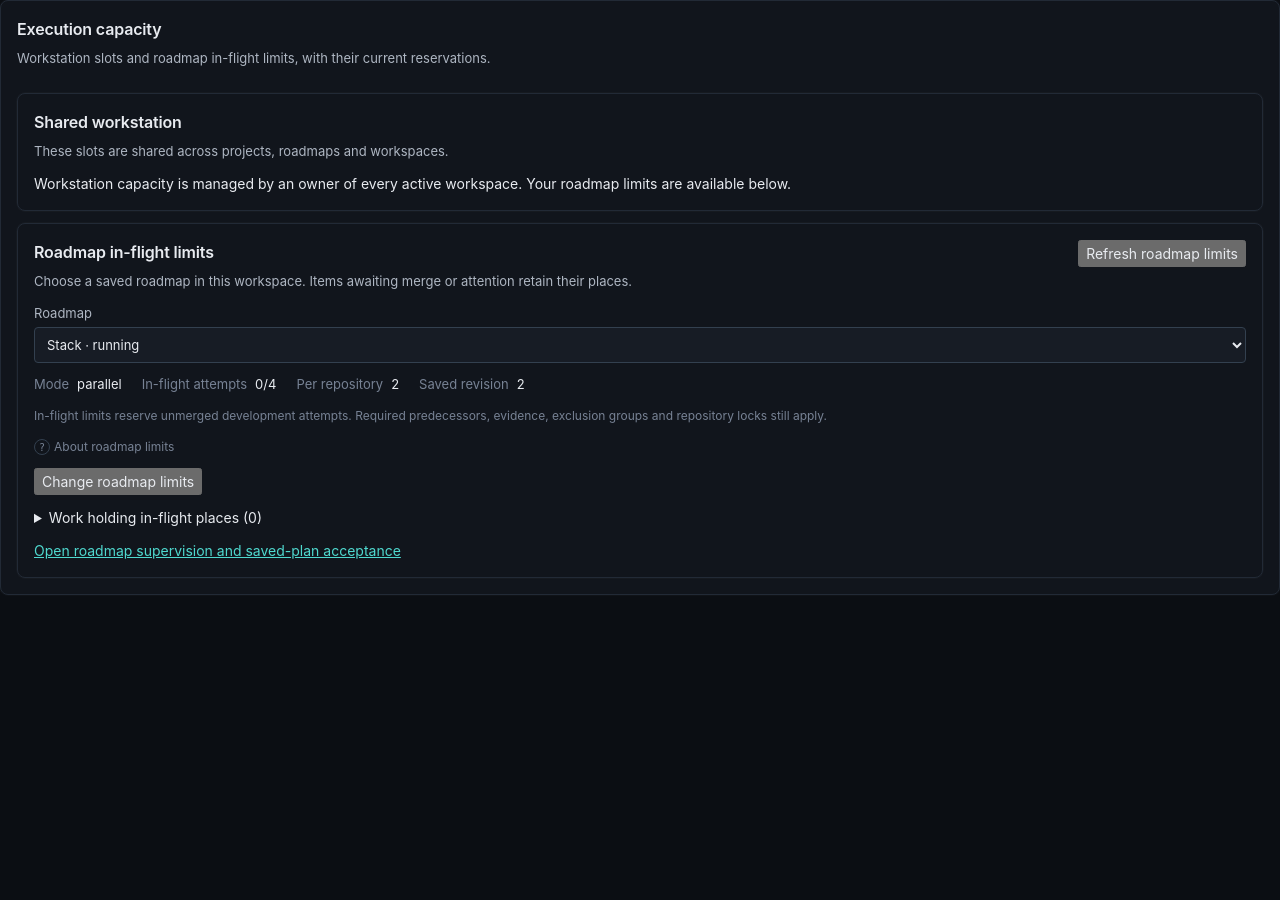
dates a running roadmap’s limits edit by its revision, not its version (R-B6, decision 10)
This screenshot has width=1280, height=900.
Click the button "Change roadmap limits": point(118, 482) [34, 468, 202, 495]
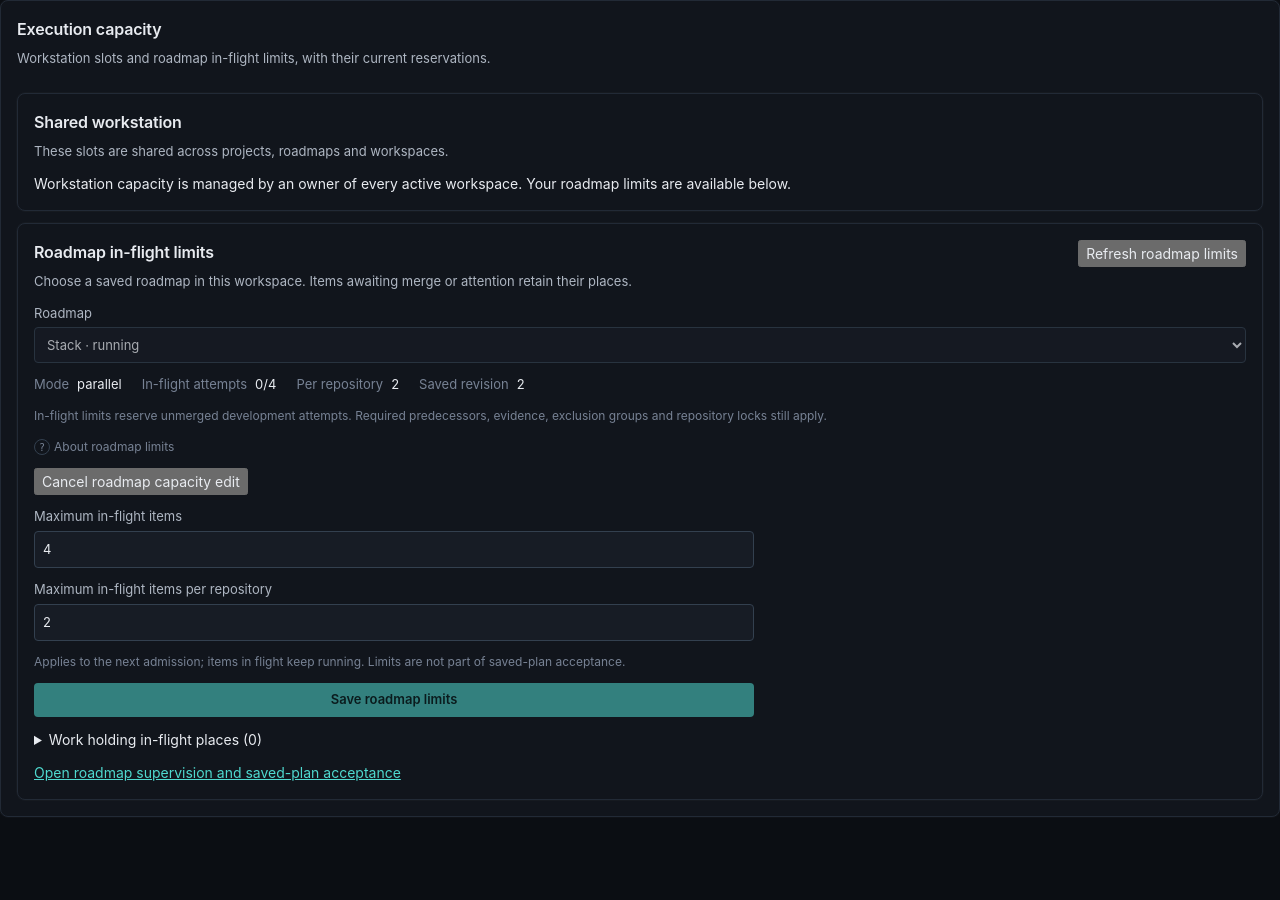
Replace the text in the number field labelled "Maximum in-flight items" with "3": point(394, 549) [34, 530, 754, 568]
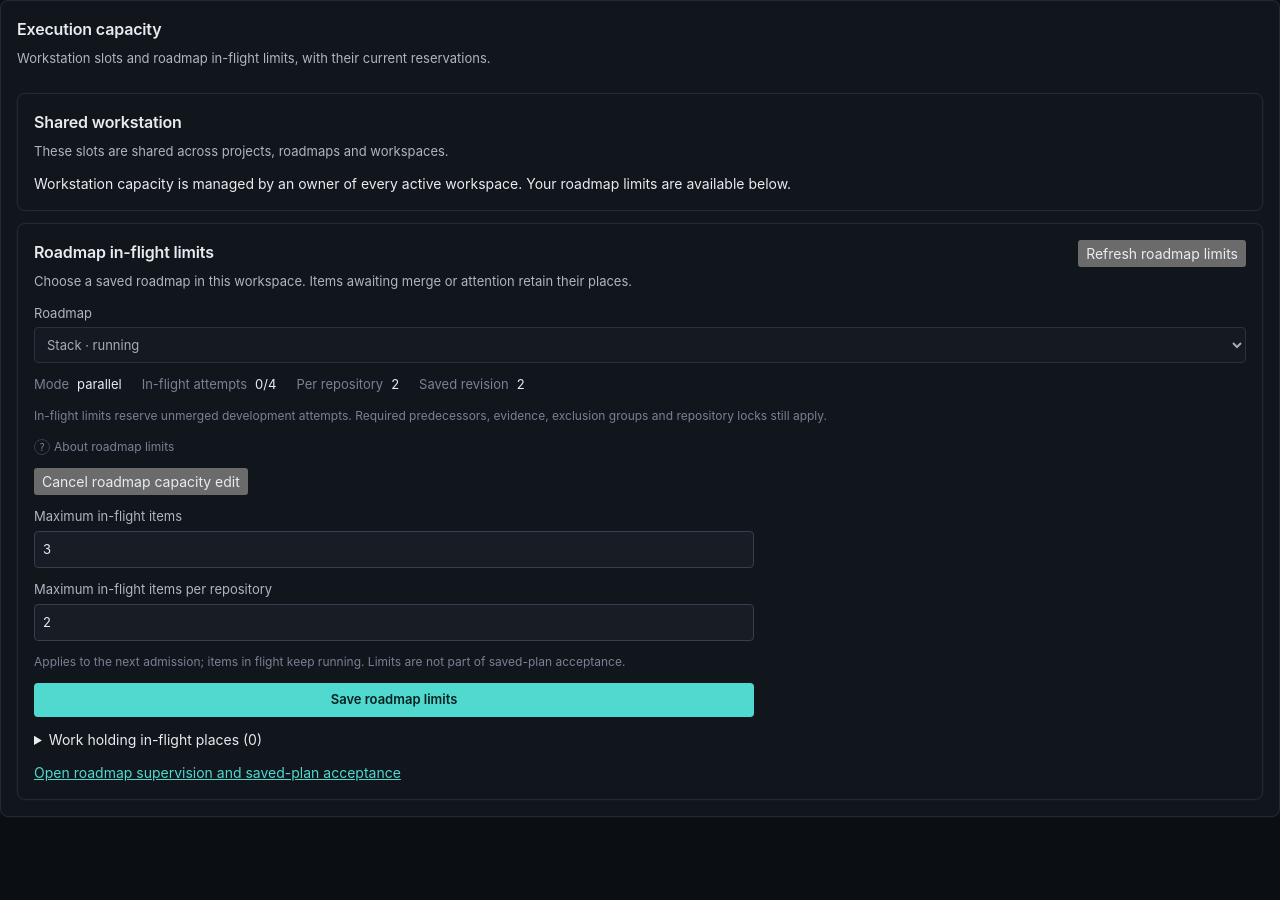
Click the button "Refresh roadmap limits": point(1162, 254) [1078, 240, 1246, 267]
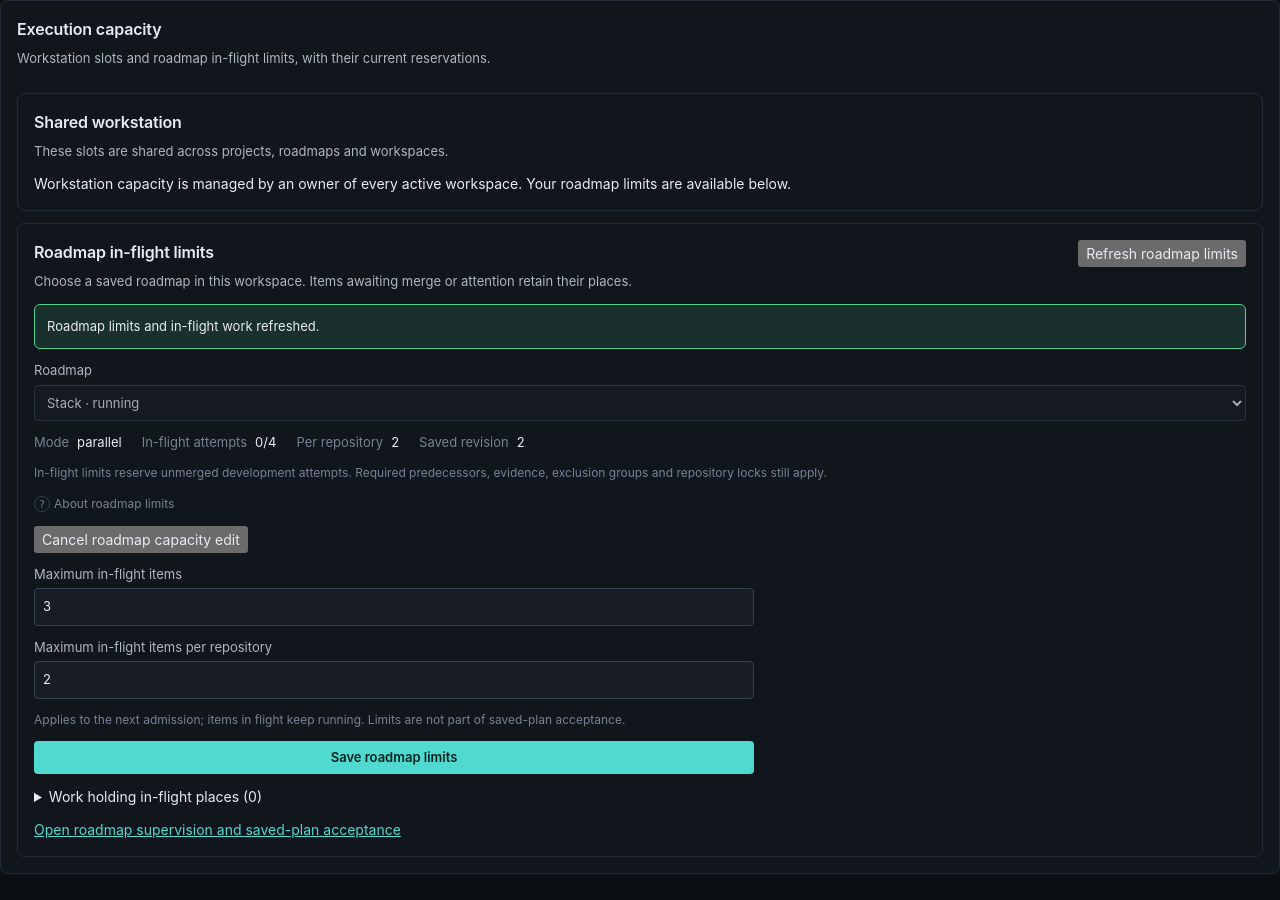
Expected: the text "The roadmap changed during this edit" is not shown
Expected: the button "Save roadmap limits" is enabled, [34, 740, 754, 774]
Expected: the text "Roadmap limits and in-flight work refreshed." is shown, [34, 304, 1246, 349]
Click the button "Refresh roadmap limits": point(1162, 254) [1078, 240, 1246, 267]
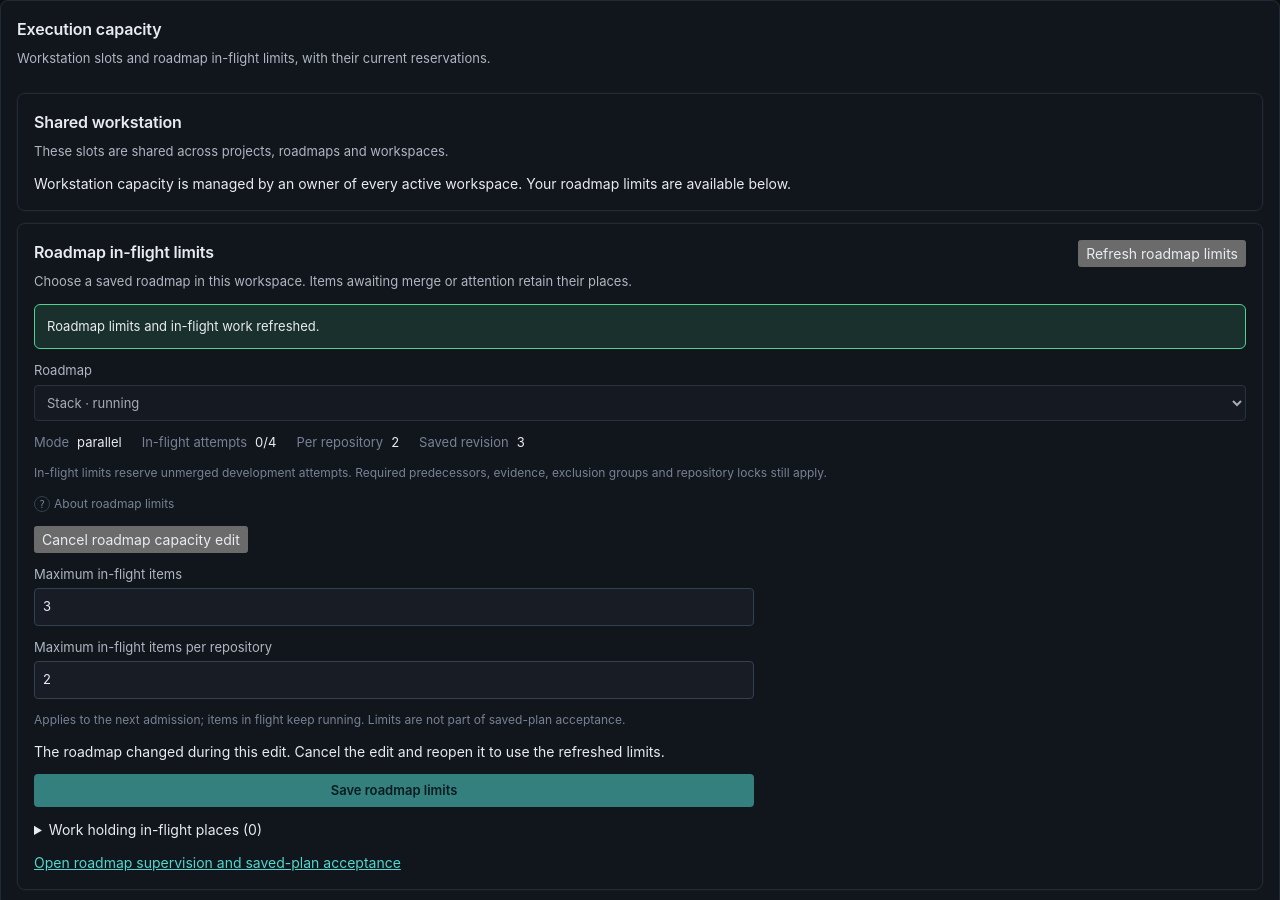
Expected: the text "The roadmap changed during this edit" is shown, [34, 742, 665, 760]
Expected: the button "Save roadmap limits" is disabled, [34, 774, 754, 807]
